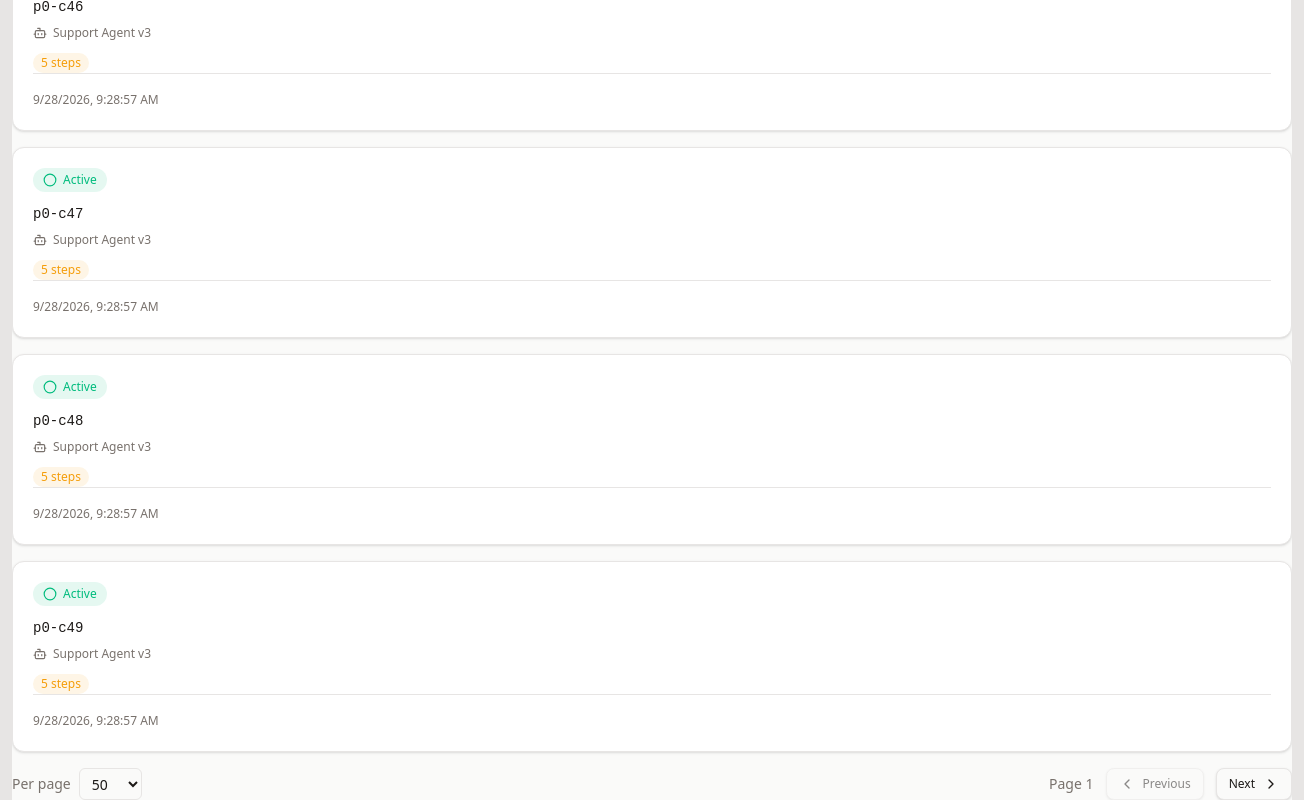
ConversationsPage — pagination › starts at index 0 and advances the index when Next is clicked
(page scrolled)
Click the button with test id "pagination-next" at (1254, 784), box [1216,768,1292,799]
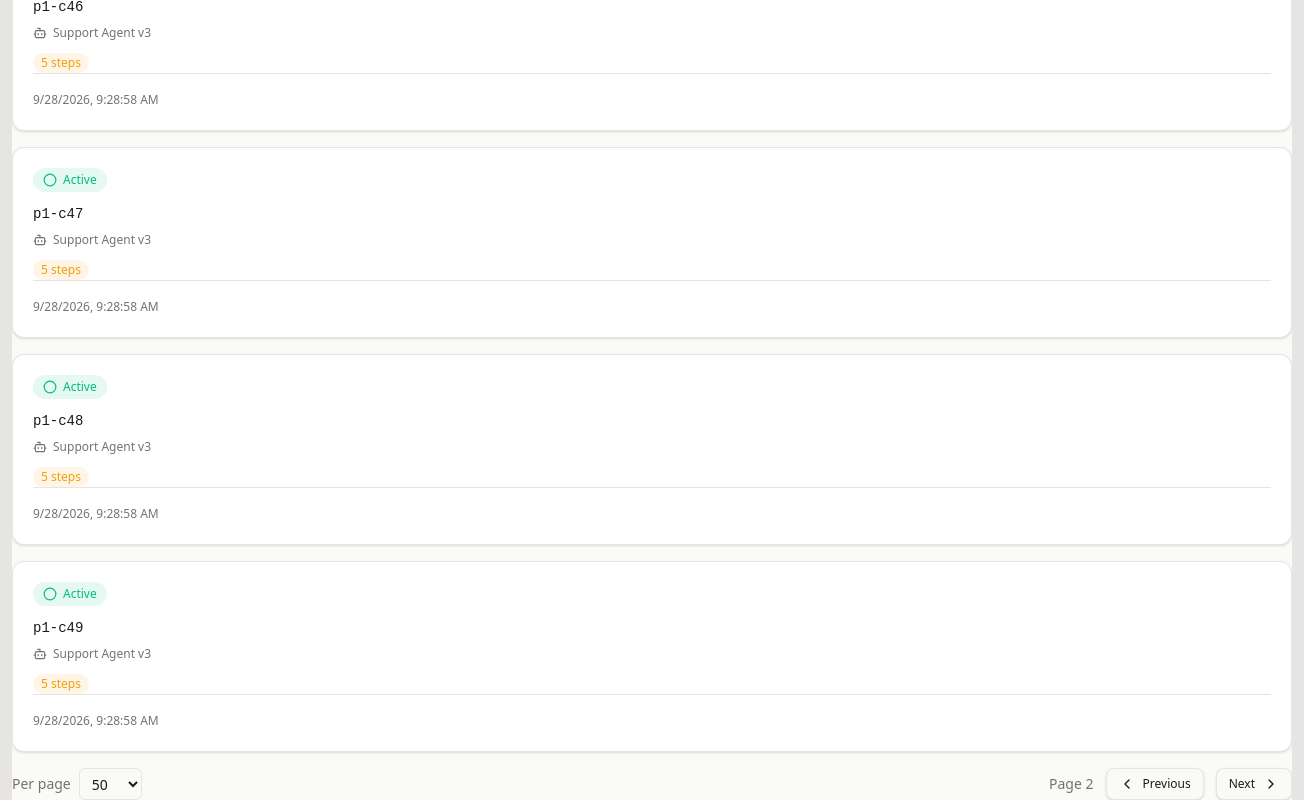
Result: the text with test id "page-indicator" shows "2" at [1049,774,1094,793]
